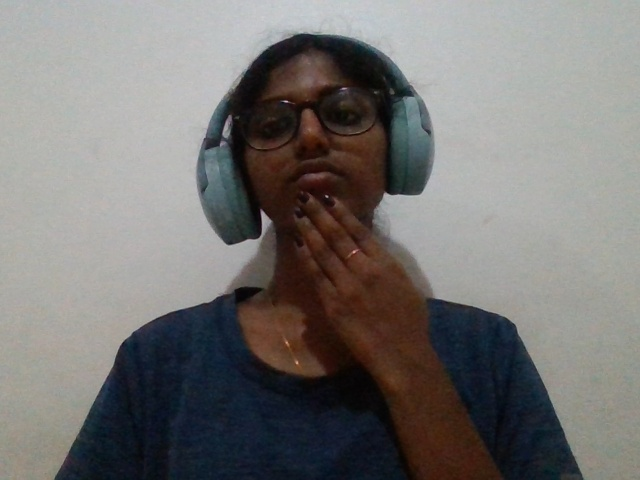Thanks: (252, 156, 464, 426)
